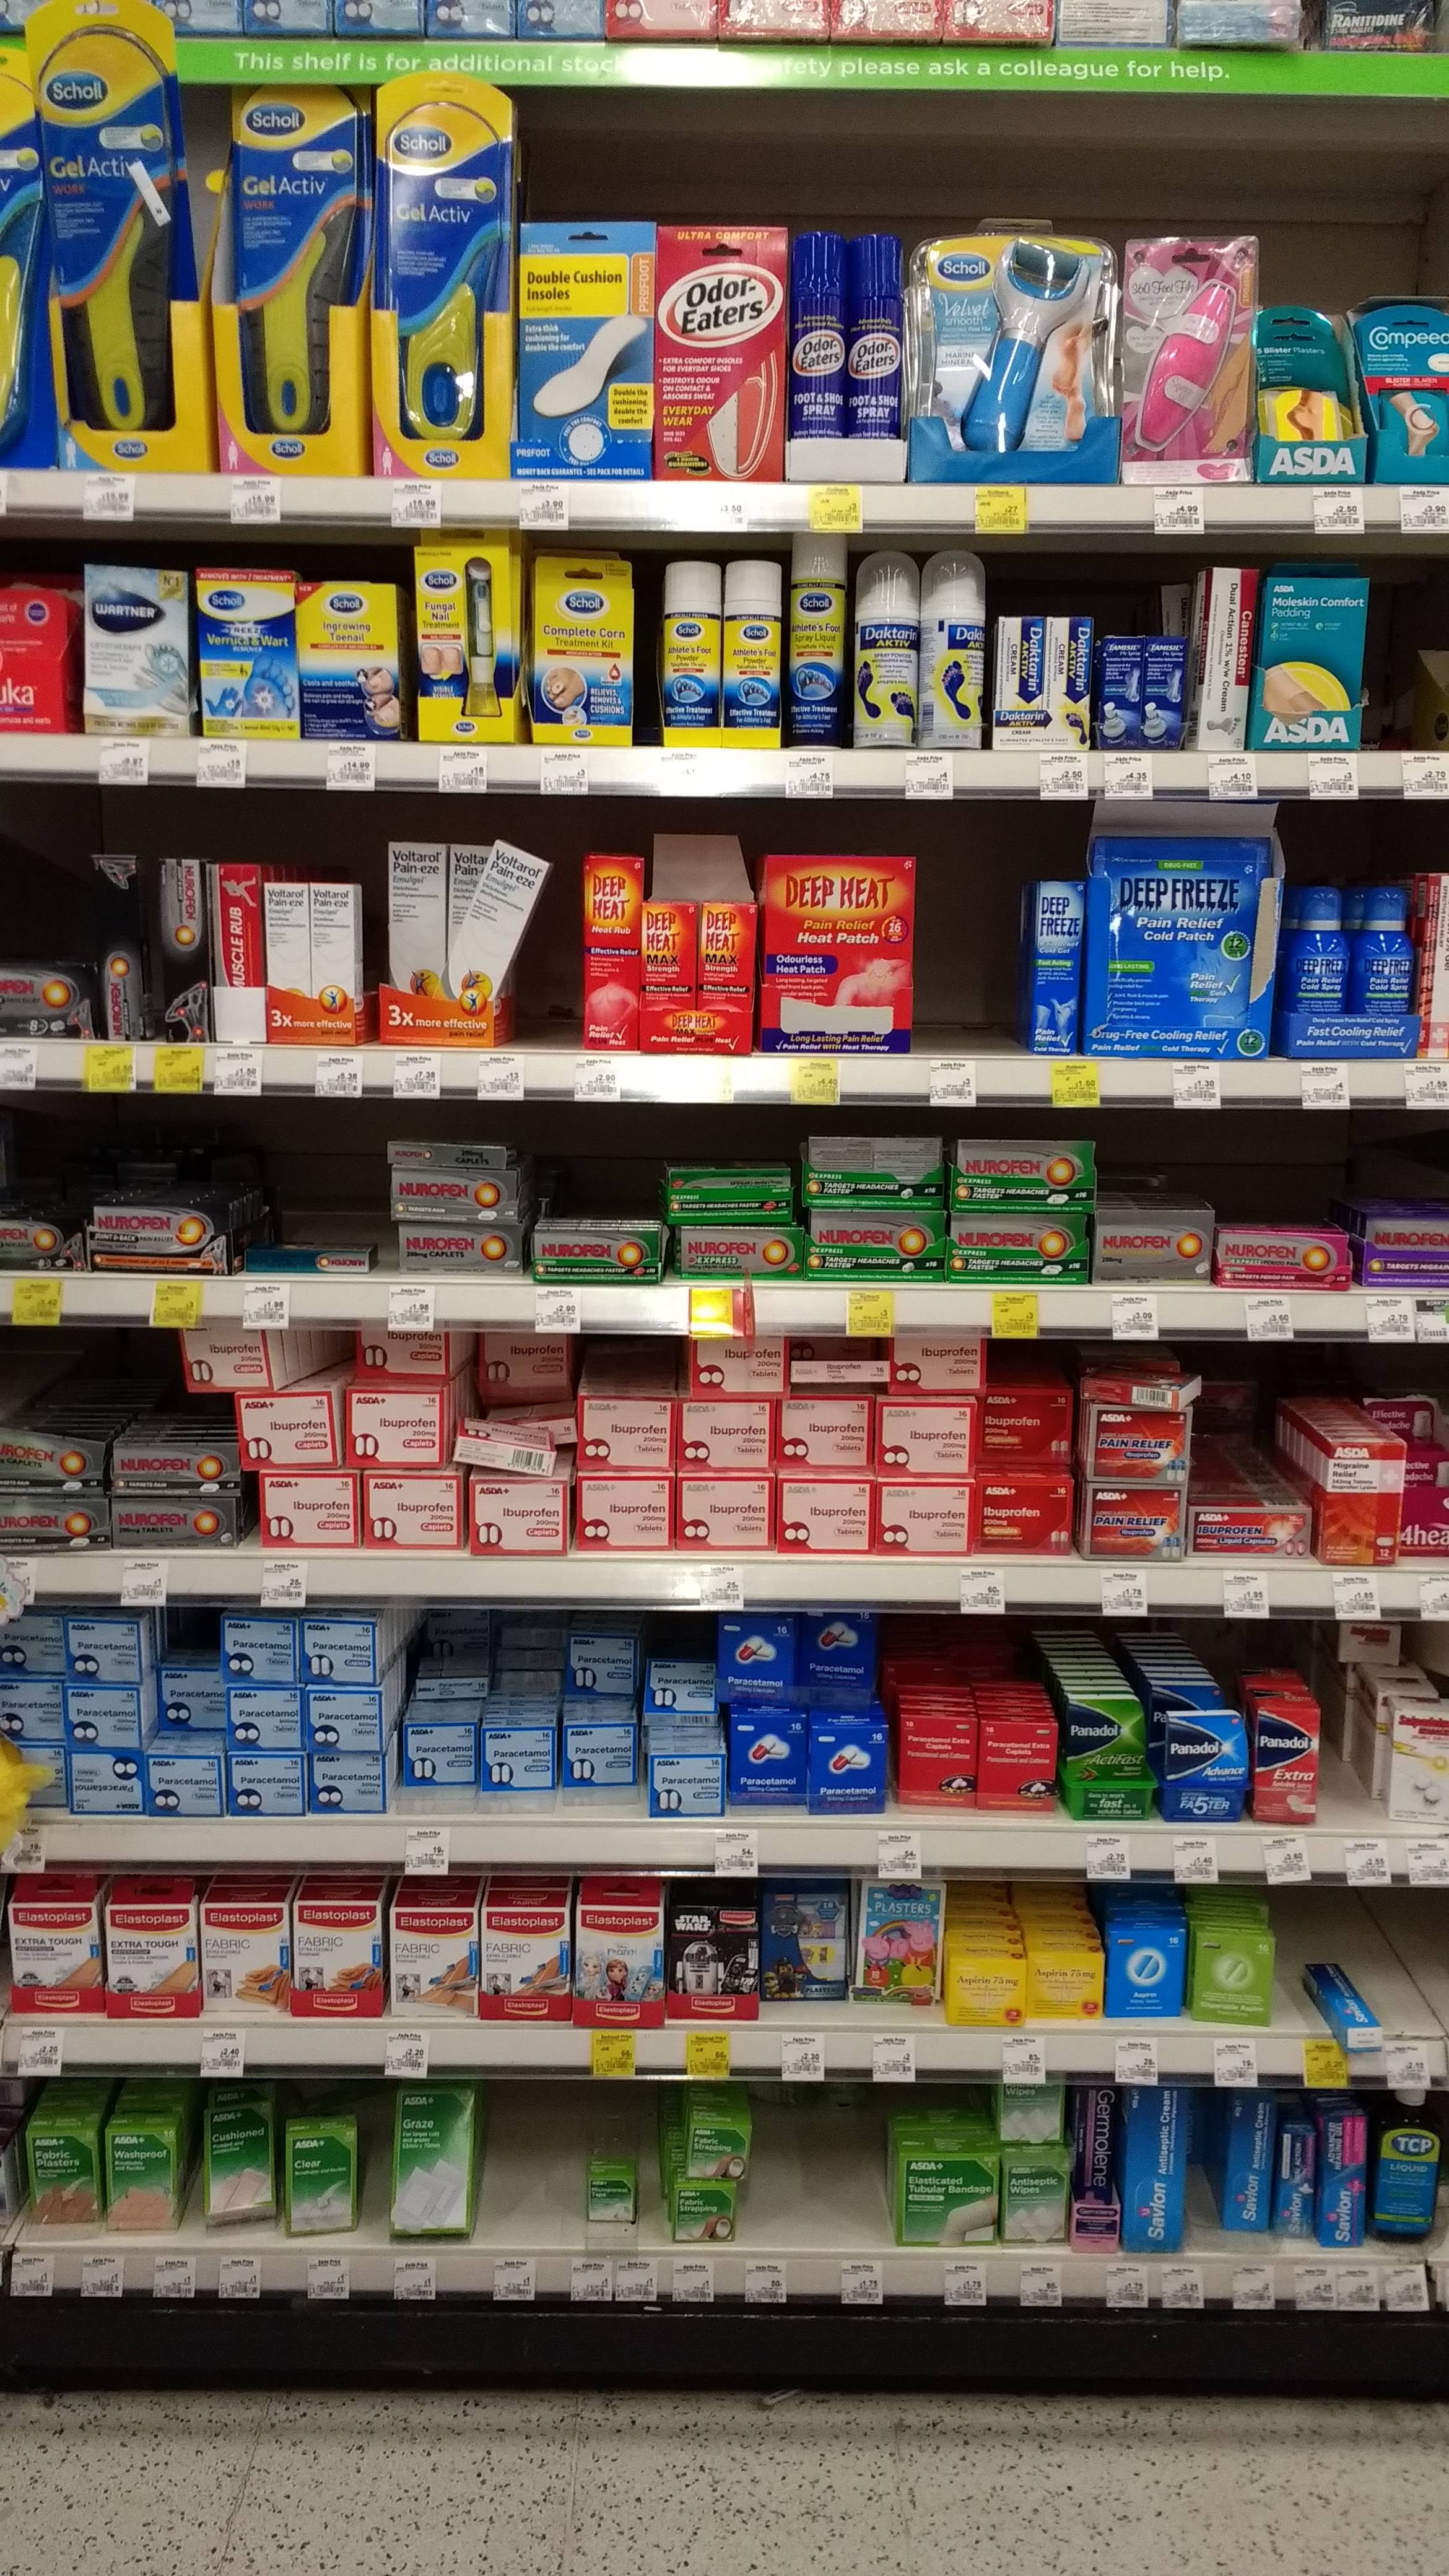Misplacement: (395, 1624, 656, 1833)
Out-of-stock: (916, 809, 1023, 1046)
